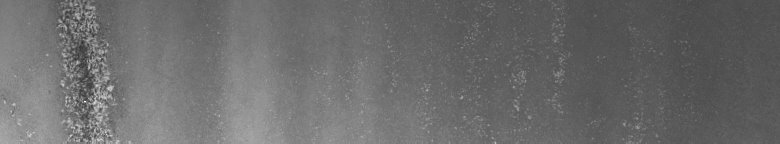hc: (4, 4, 125, 136)
